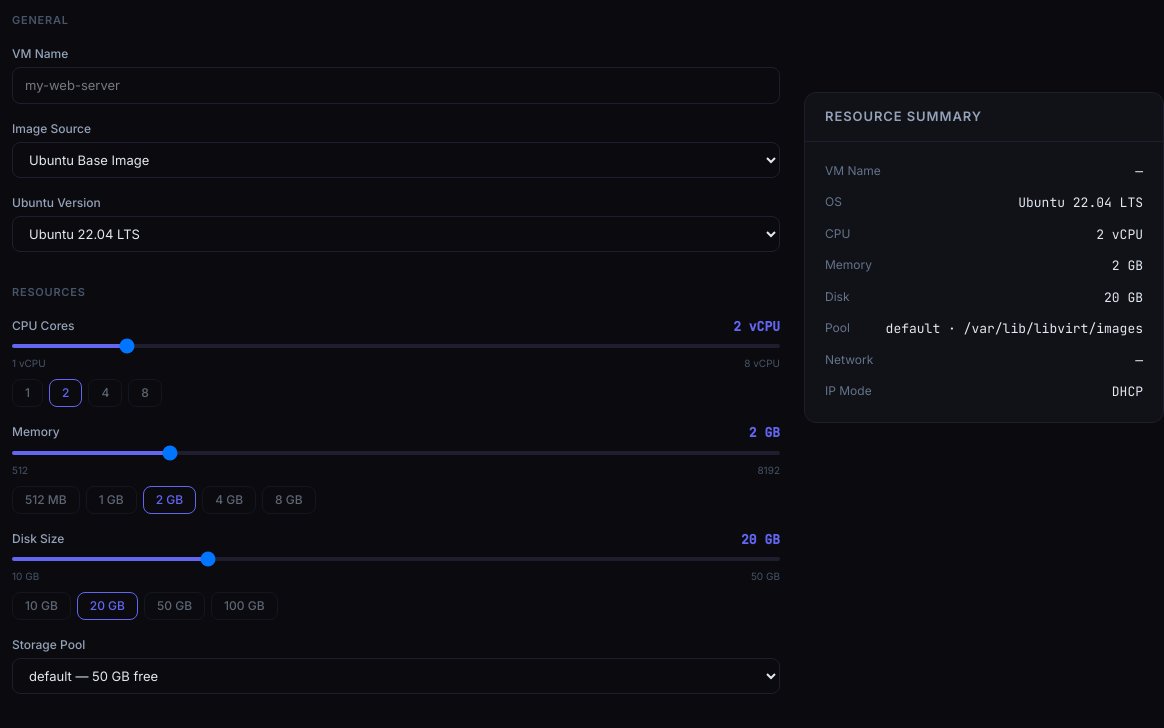
it: ProvisionForm — image source selector › switching to "From Template" shows Template select and hides Ubuntu Version
The width and height of the screenshot is (1164, 728).
Select "From Template" in the dropdown labelled "Image Source" at (396, 160), box [12, 142, 780, 178]
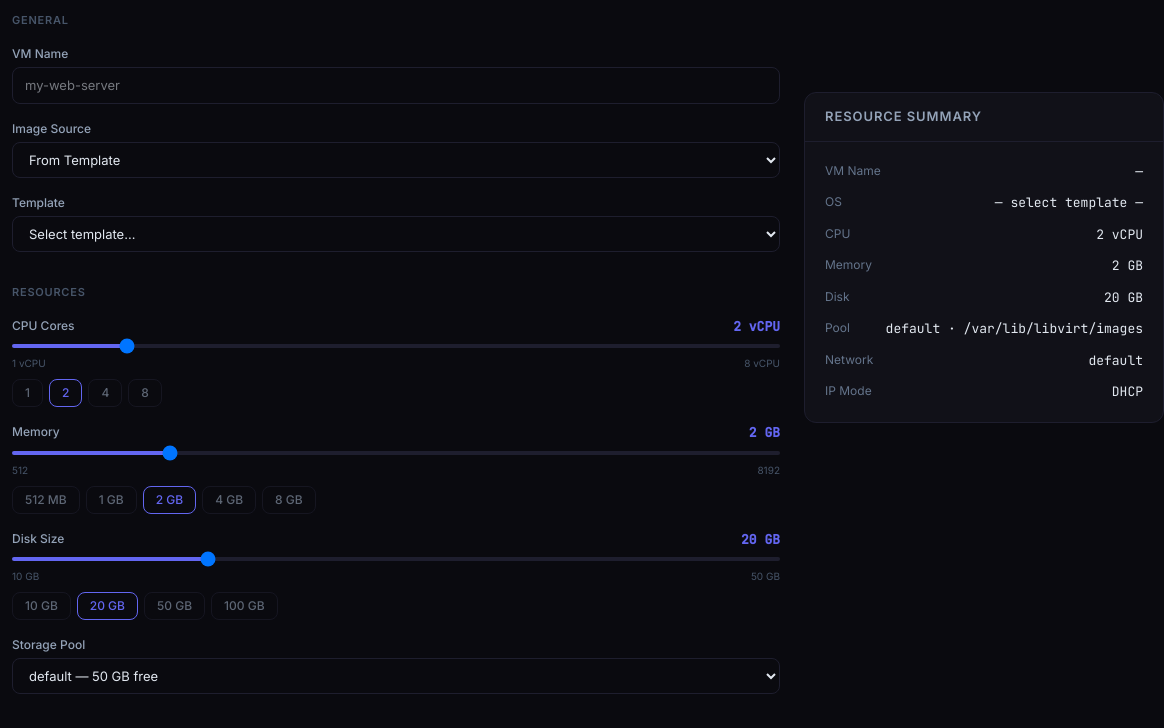
Expected: the dropdown labelled "Template" is shown, [12, 216, 780, 252]
Now the label labelled "Ubuntu Version" is gone
